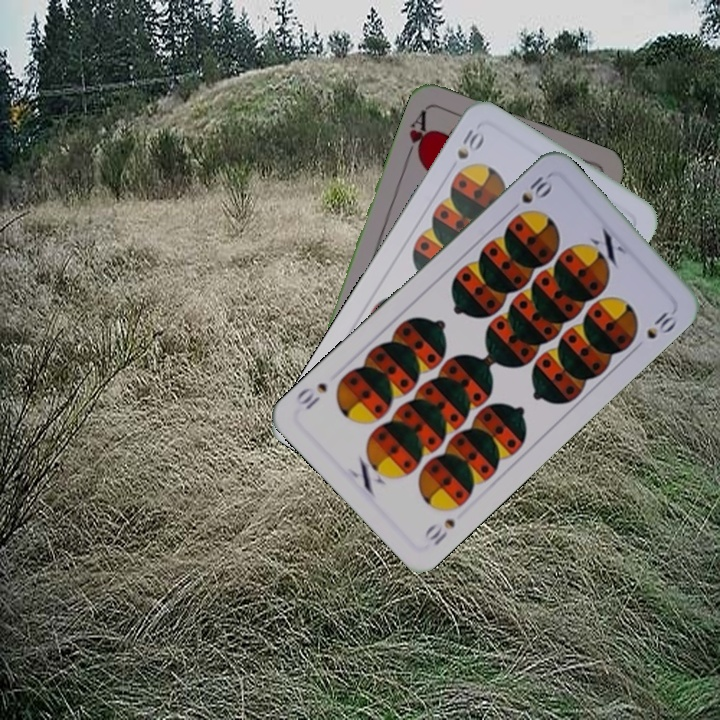HA: (401, 104, 433, 163)
S10: (505, 172, 556, 216), (452, 125, 488, 162), (420, 514, 458, 548)
